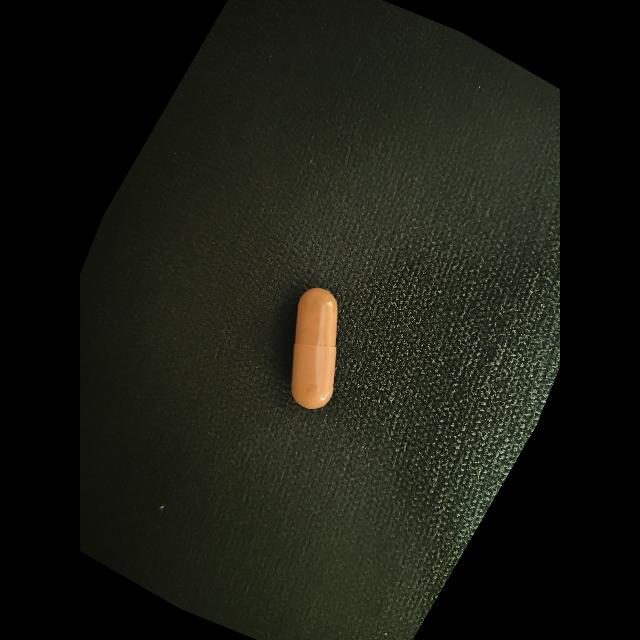Intact Capsule: (292, 287, 338, 409)
